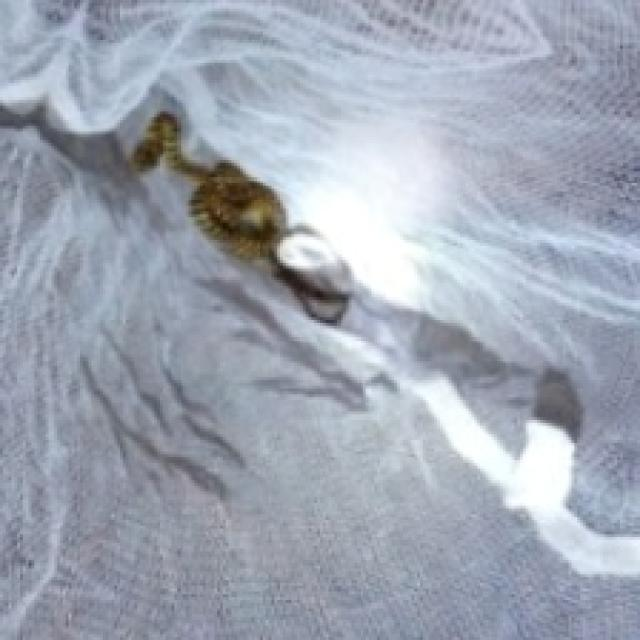mangrove cat snake: (397, 374, 637, 574), (129, 111, 351, 320)
